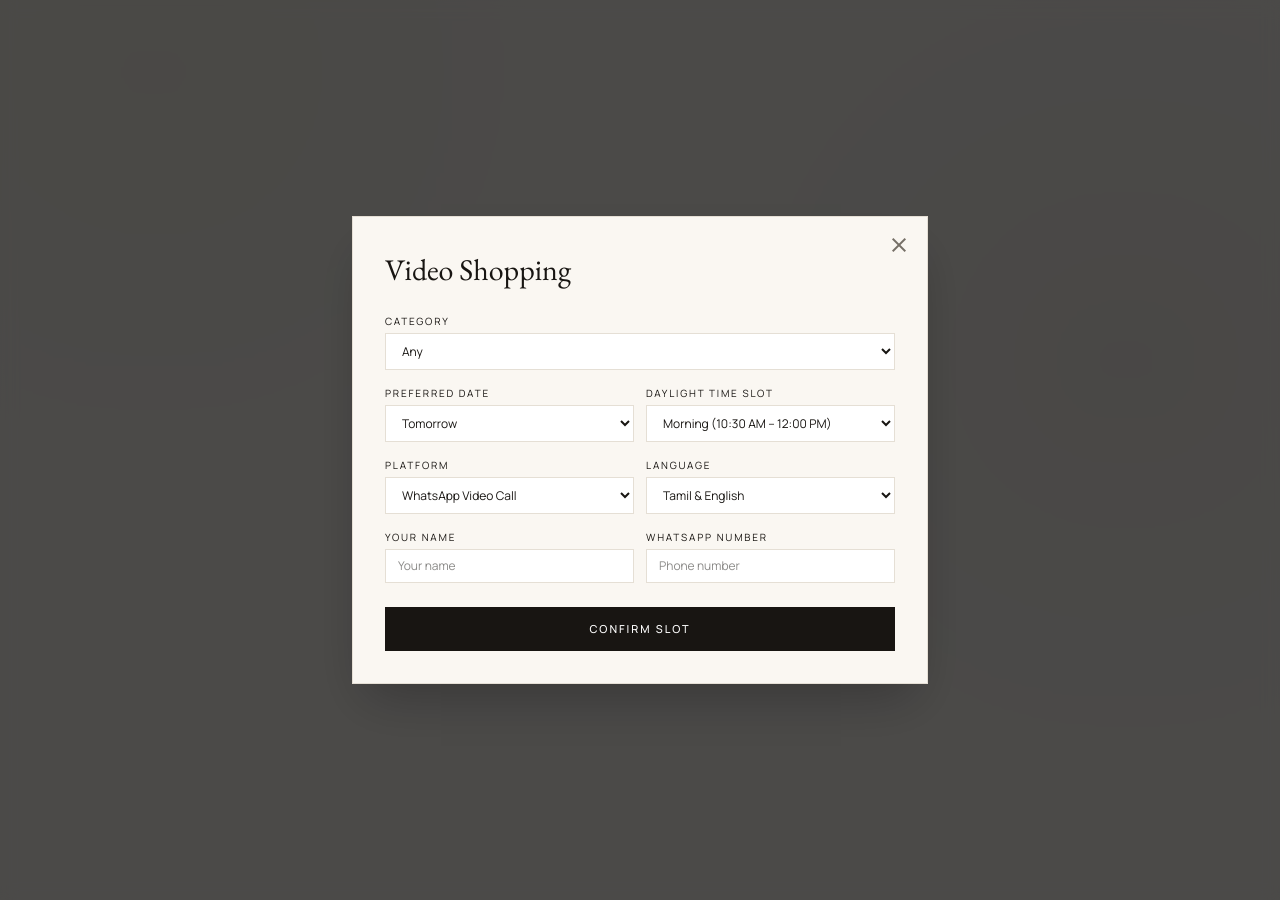
Test: VideoShoppingModal › shows the reserved slot after form submission
Type "Ragul" into the field with placeholder "Your name" at (510, 566), box top-left (385, 549), bottom-right (634, 583)
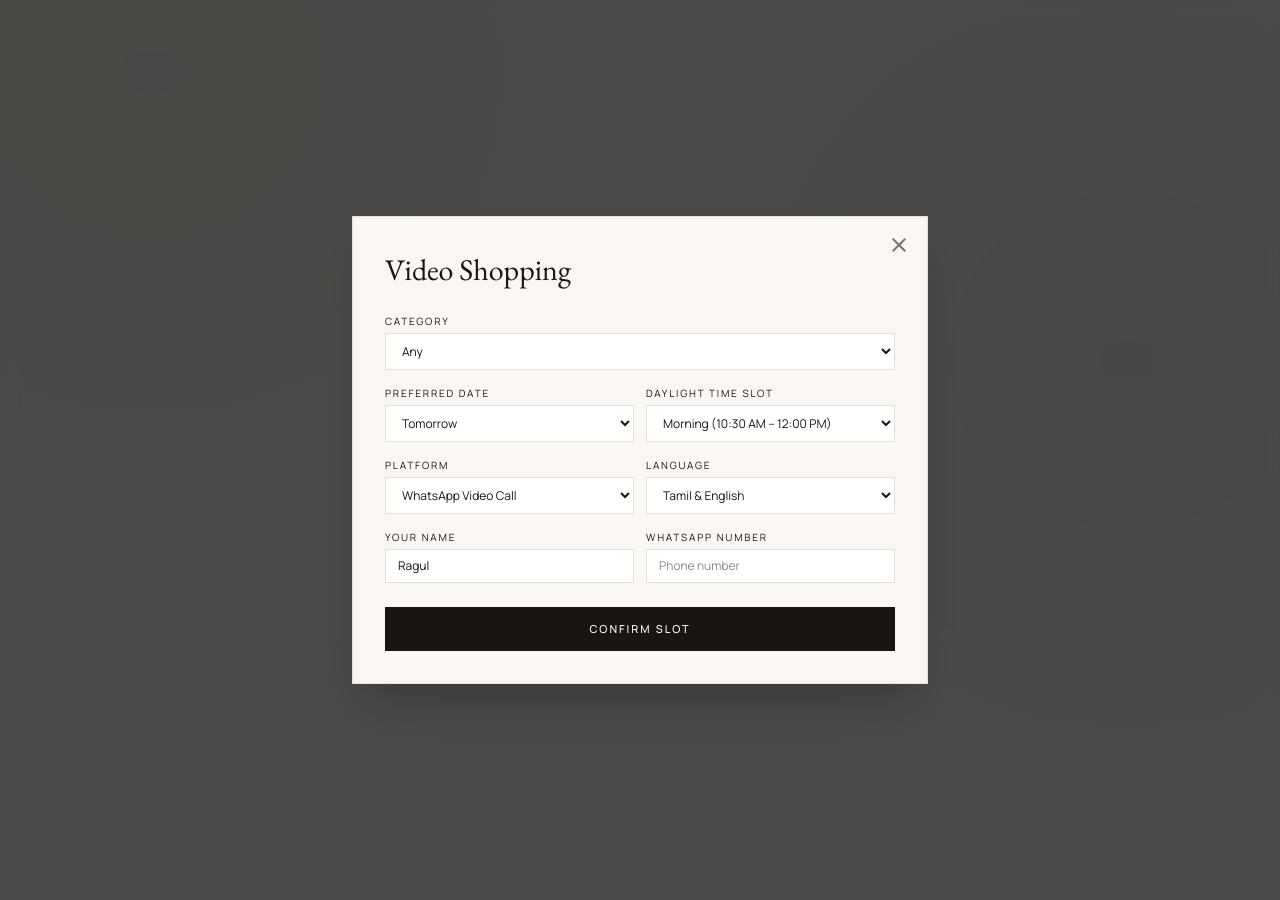
Type "9876543210" into the field with placeholder "Phone number" at (770, 566), box top-left (646, 549), bottom-right (895, 583)
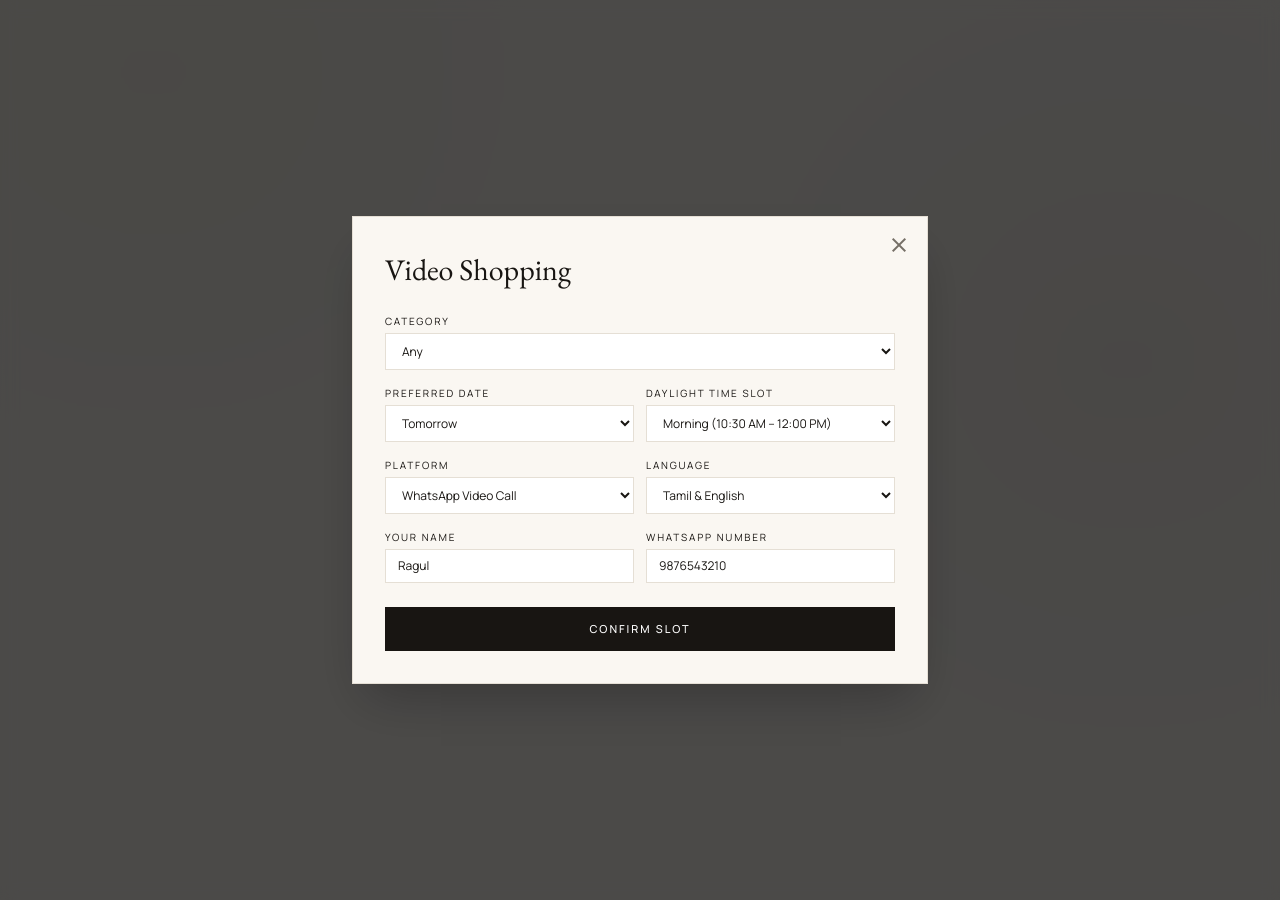
Submit the form named "Confirm Slot", box top-left (385, 314), bottom-right (895, 651)
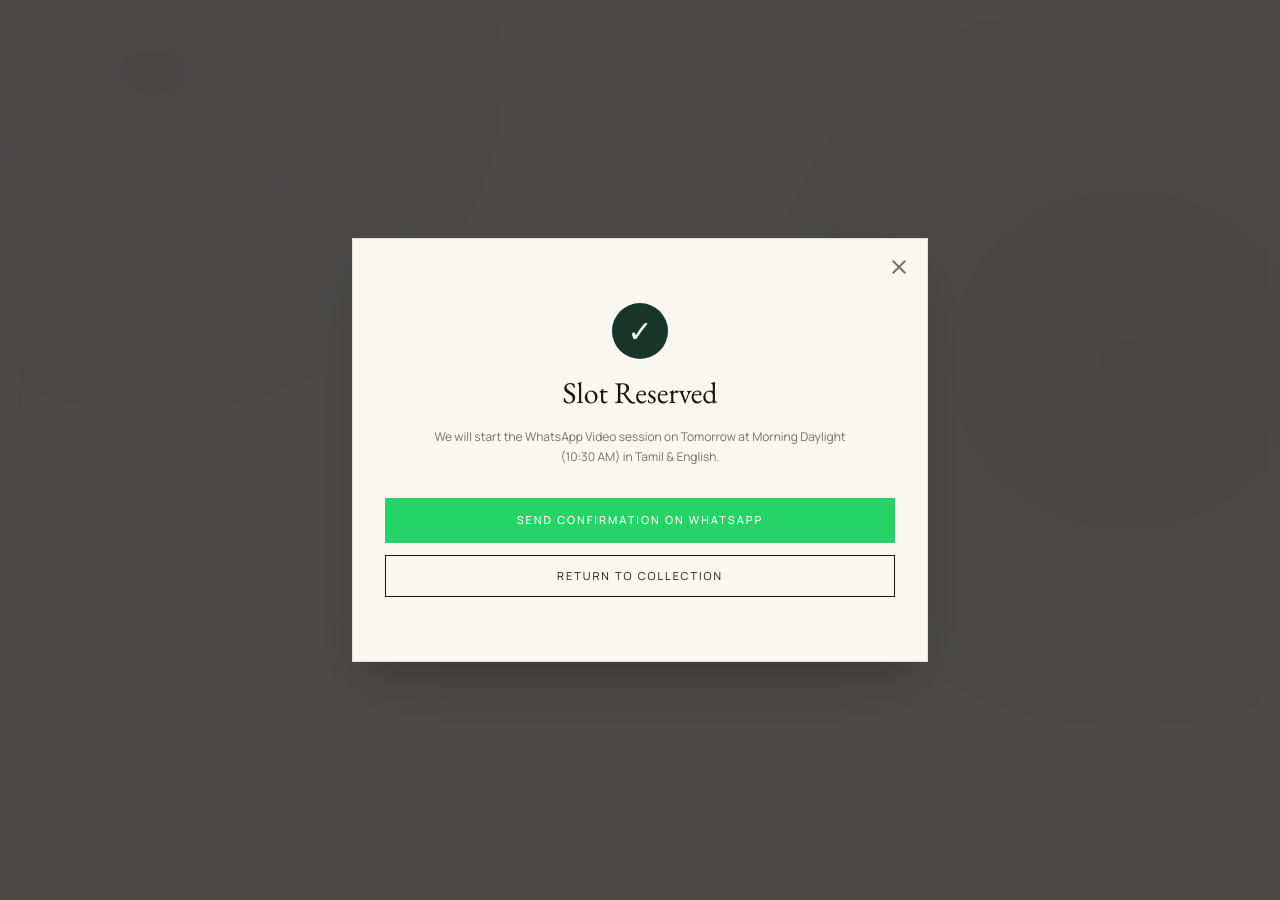
Result: the heading "Slot Reserved" is shown at top-left (562, 373), bottom-right (717, 412)
Result: the text "We will start the WhatsApp Video session on Tomorrow at Morning Daylight (10:30 AM) in Tamil & English." is shown at top-left (416, 427), bottom-right (864, 466)
